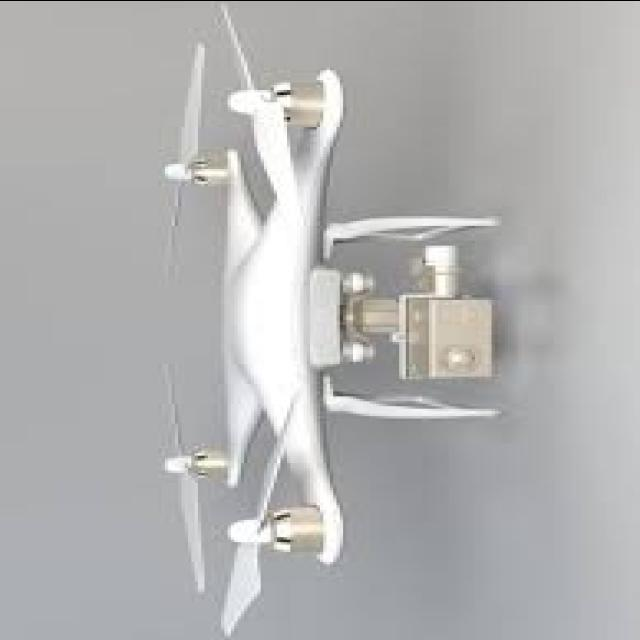drone: (142, 0, 512, 635)
